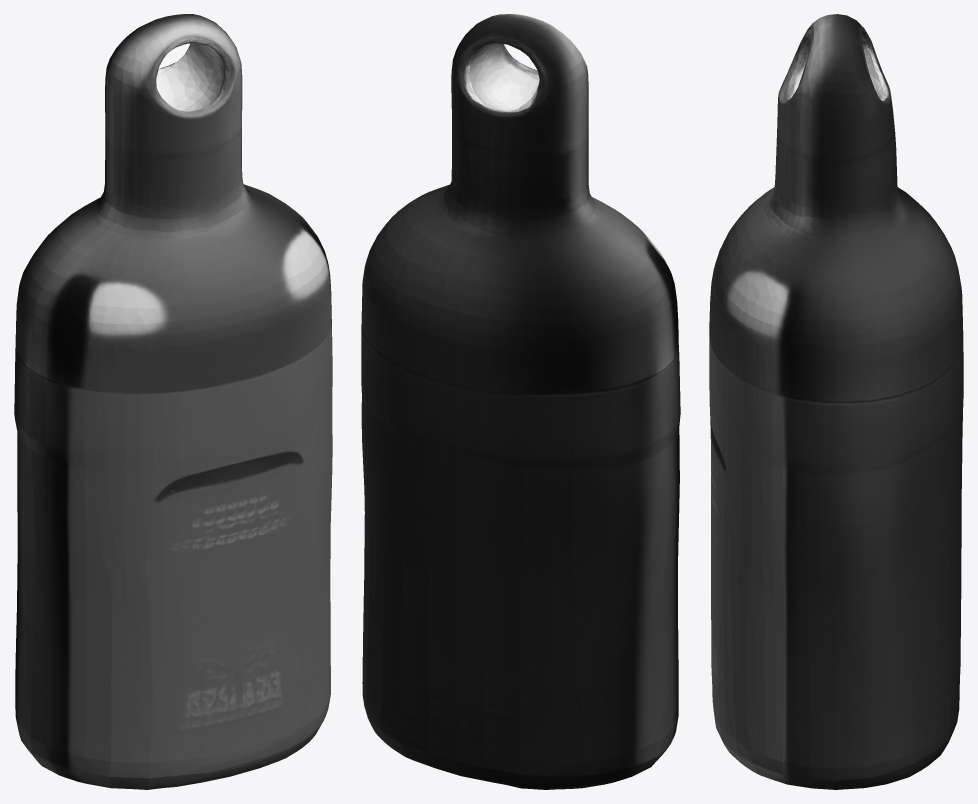
Rendered from siyah_duba16.glb.
3 renders of one model, left to right at view 1: azimuth 30°, elevation 25°; view 2: azimuth 150°, elevation 25°; view 3: azimuth 270°, elevation 25°, orthographic.
Parts seen in each view (by area): view 1: world; view 2: world; view 3: world.
Boxes of the visible parts, x1=… form: world: x1=14, y1=14, x2=332, y2=789; world: x1=361, y1=14, x2=680, y2=789; world: x1=709, y1=14, x2=963, y2=789.
Size of the model in its own units: 0.4191 by 0.9981 by 0.3227.
1 material, 1 textured.
